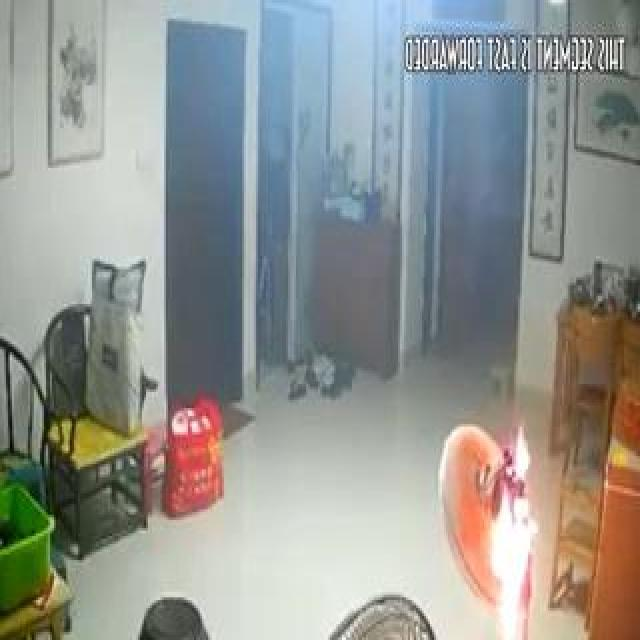Fire: (467, 372, 541, 628)
